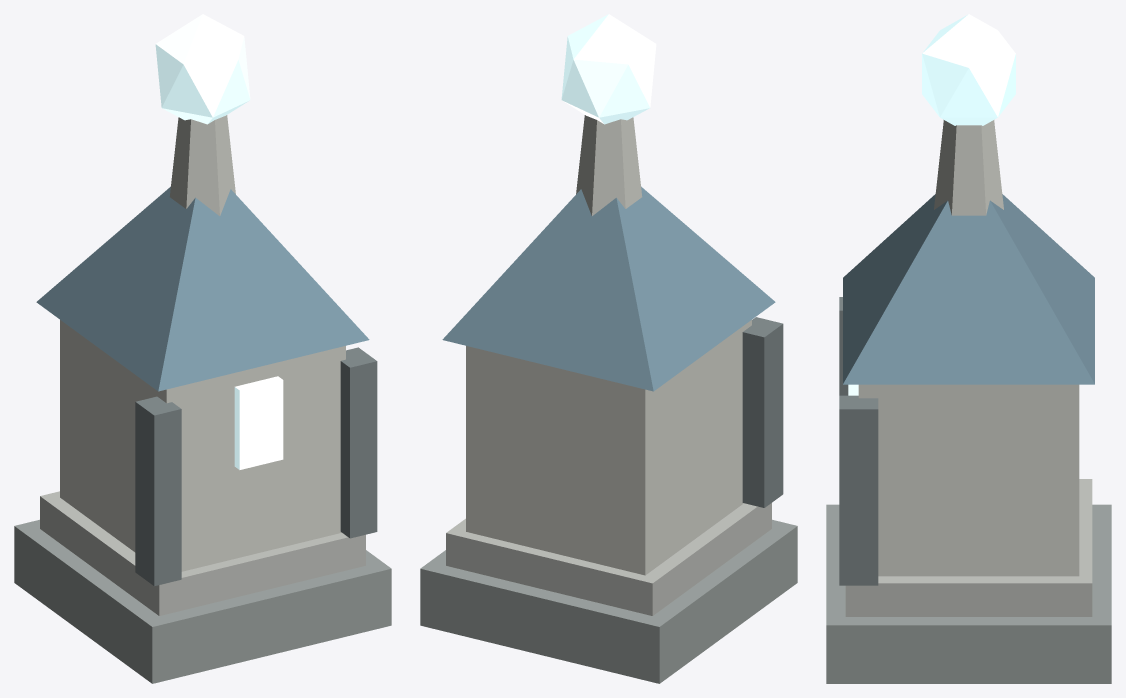
Rendered from human_frost_t2.glb.
3 views of the same model, side by side, from view 1: azimuth 30°, elevation 25°; view 2: azimuth 150°, elevation 25°; view 3: azimuth 270°, elevation 25° (orthographic). The views are drawn at different scales.
Parts seen in each view (by area): view 1: human_frost_t2_MAT_light, human_frost_t2_MAT_roof, human_frost_t2_MAT_dark, human_frost_t2_MAT_iron, human_frost_t2_MAT_stone, human_frost_t2_MAT_frost; view 2: human_frost_t2_MAT_light, human_frost_t2_MAT_roof, human_frost_t2_MAT_dark, human_frost_t2_MAT_stone, human_frost_t2_MAT_frost, human_frost_t2_MAT_iron; view 3: human_frost_t2_MAT_light, human_frost_t2_MAT_roof, human_frost_t2_MAT_dark, human_frost_t2_MAT_stone, human_frost_t2_MAT_frost, human_frost_t2_MAT_iron.
Boxes of the visible parts, bbox=[...] form: human_frost_t2_MAT_light: bbox=[60, 115, 345, 571]; human_frost_t2_MAT_roof: bbox=[36, 186, 369, 391]; human_frost_t2_MAT_dark: bbox=[14, 519, 391, 683]; human_frost_t2_MAT_iron: bbox=[135, 347, 377, 586]; human_frost_t2_MAT_stone: bbox=[40, 491, 365, 615]; human_frost_t2_MAT_frost: bbox=[155, 14, 283, 469]; human_frost_t2_MAT_light: bbox=[466, 115, 751, 575]; human_frost_t2_MAT_roof: bbox=[442, 186, 775, 391]; human_frost_t2_MAT_dark: bbox=[420, 519, 797, 683]; human_frost_t2_MAT_stone: bbox=[446, 503, 771, 615]; human_frost_t2_MAT_frost: bbox=[561, 14, 656, 124]; human_frost_t2_MAT_iron: bbox=[742, 317, 783, 507]; human_frost_t2_MAT_light: bbox=[858, 120, 1079, 576]; human_frost_t2_MAT_roof: bbox=[843, 194, 1094, 384]; human_frost_t2_MAT_dark: bbox=[826, 504, 1111, 683]; human_frost_t2_MAT_stone: bbox=[845, 479, 1092, 616]; human_frost_t2_MAT_frost: bbox=[848, 14, 1015, 395]; human_frost_t2_MAT_iron: bbox=[839, 297, 878, 585].
Size of the model in its own units: 0.88 by 2.07 by 0.88.
